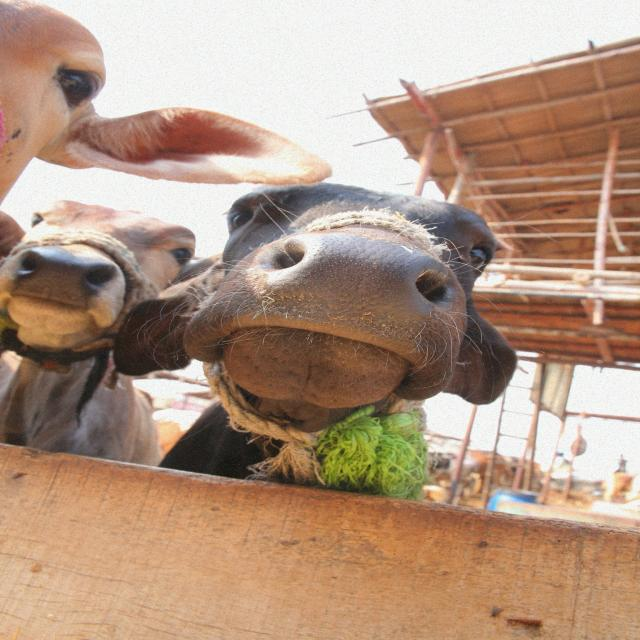muzzles: (248, 230, 460, 358), (15, 240, 121, 307)
